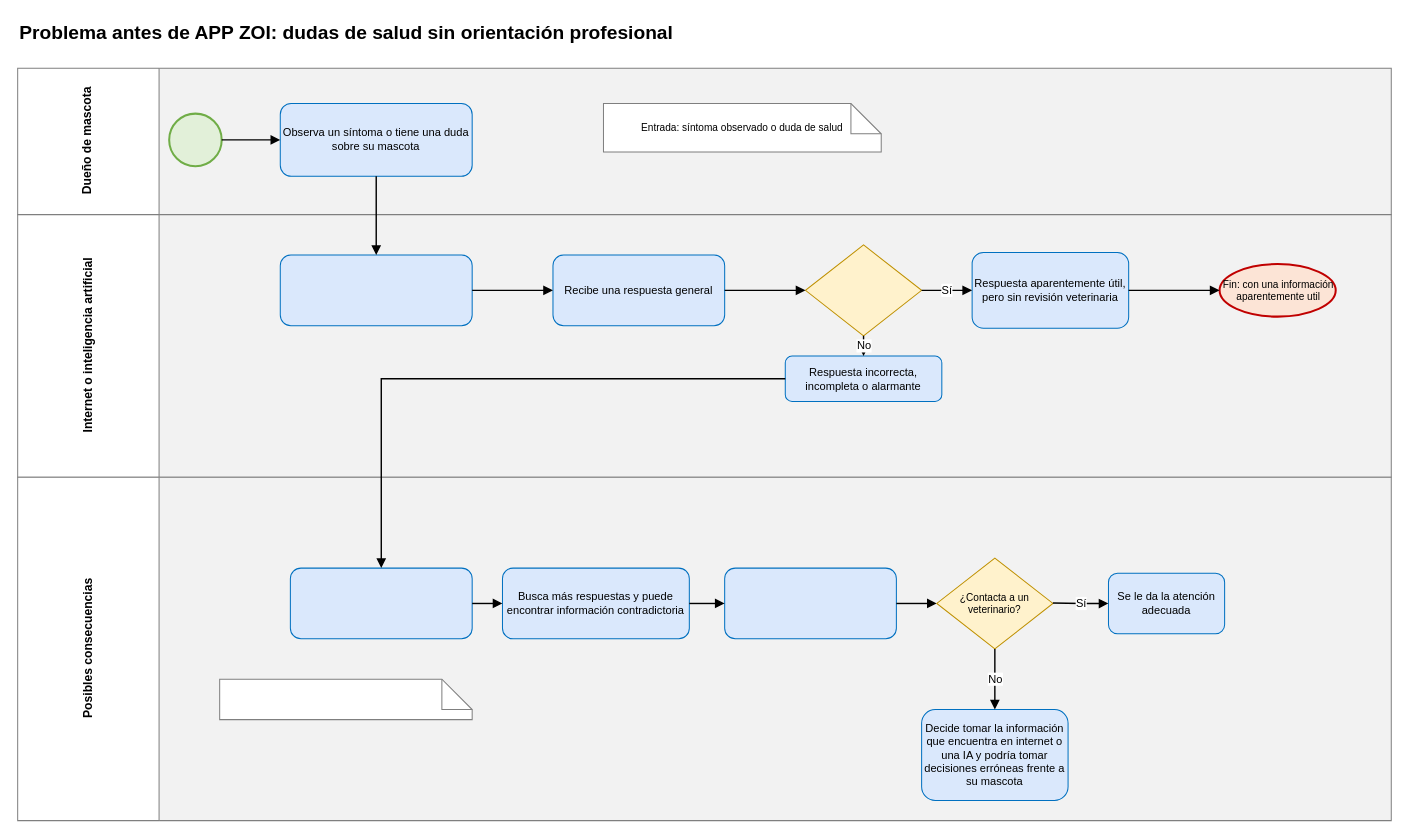
This 1409x838 diagram has some shape labels left out. The centre of each missing label's shape, as x and y in pixels:
"Busca información en internet o pregunta a una IA" goes at point 375,290.
"Inicio" goes at point 195,139.
"Puede retrasar la consulta con un veterinario" goes at point 810,603.
"Resultado: información general que puede no ser adecuada para la mascota" goes at point 345,699.
"Siente incertidumbre, preocupación o pánico" goes at point 380,603.
"¿La respuesta es correcta para esa mascota?" goes at point 863,290.
